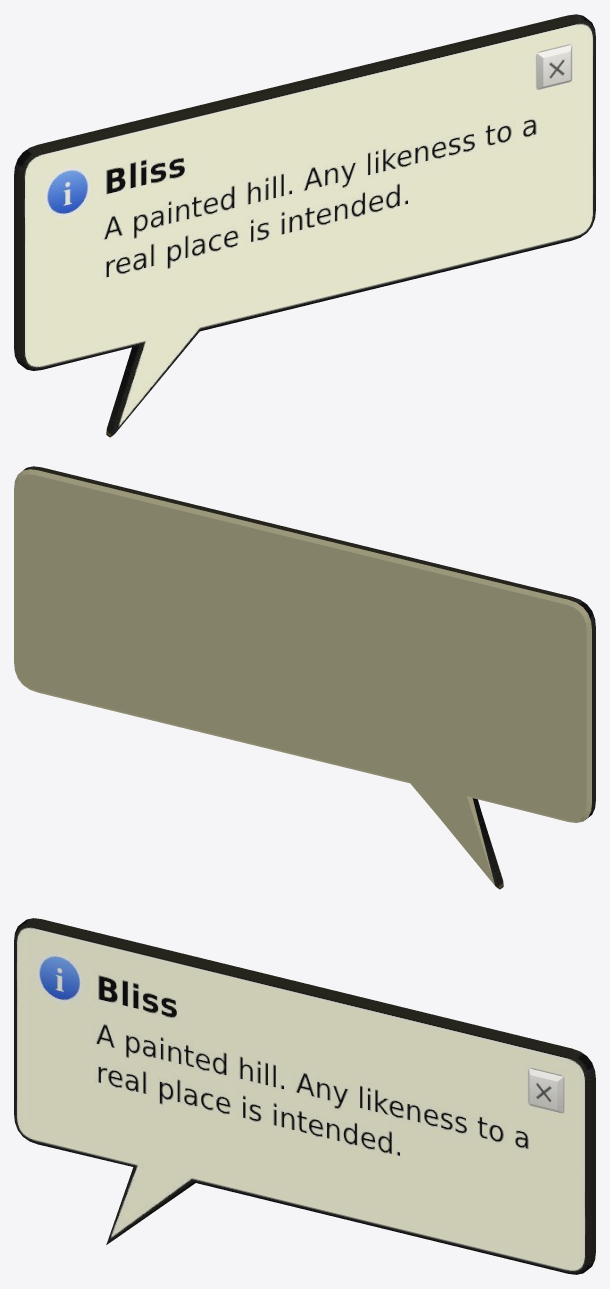
The model's file is balloon-hill.glb.
The picture shows the model from 3 angles, top to bottom: view 1: azimuth 30°, elevation 25°; view 2: azimuth 150°, elevation 25°; view 3: azimuth 330°, elevation 25°; orthographic projection.
Visible parts, largest first — view 1: balloon; view 2: balloon; view 3: balloon.
Part boxes in pixels (<box>): balloon: <box>14,14,595,437</box>; balloon: <box>14,466,595,889</box>; balloon: <box>14,918,595,1274</box>.
Bounding box in the file's own units: 0.506 × 0.2565 × 0.016.
1 material, 1 textured.
